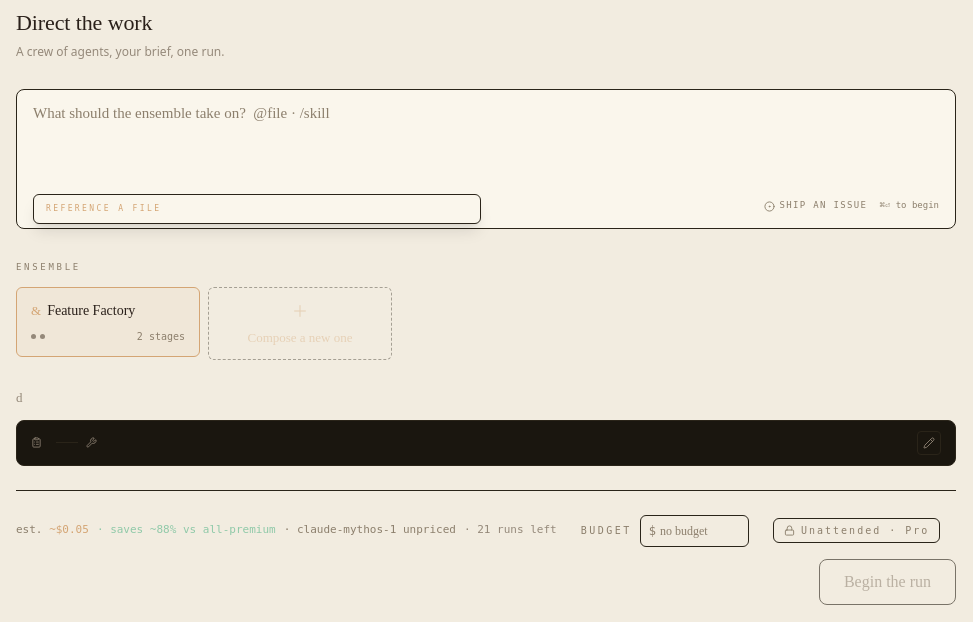
Test: PipelineSetup designed states › names unpriced stage models and, with a budget, says it cannot be enforced
Expected: the text with test id "estimate-unpriced" reads "· claude-mythos-1 unpriced", [284, 522, 456, 539]
Type "2" into the field with placeholder "no budget" at (700, 530), box [660, 522, 740, 538]
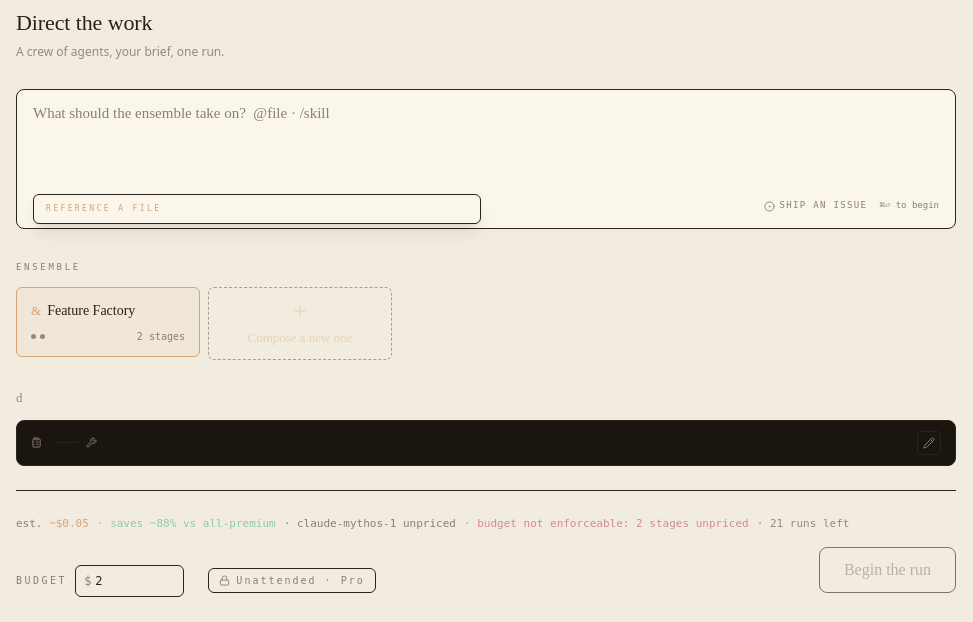
Expected: the text with test id "estimate-budget-unenforceable" reads "· budget not enforceable: 2 stages unpriced", [464, 516, 749, 533]
